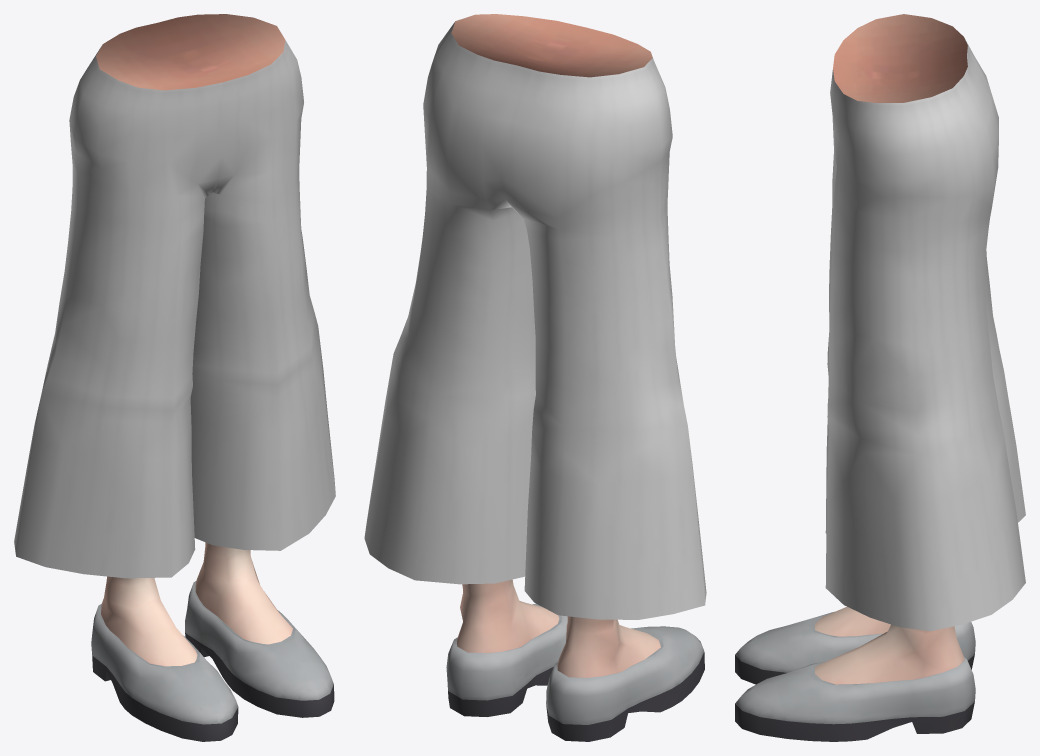
The model's file is tr0790_00_lwb00.gltf.
3 views of the same model, side by side, from view 1: azimuth 30°, elevation 25°; view 2: azimuth 150°, elevation 25°; view 3: azimuth 270°, elevation 25° (orthographic). The views are drawn at different scales.
Parts seen in each view (by area): view 1: lwb00_lowerbody_mesh_shape:lowerbody00, lwb00_shoes_mesh_shape:lowerbody00, lwb00_lowerskin_mesh_shape:lowerbody00_skin; view 2: lwb00_lowerbody_mesh_shape:lowerbody00, lwb00_shoes_mesh_shape:lowerbody00, lwb00_lowerskin_mesh_shape:lowerbody00_skin; view 3: lwb00_lowerbody_mesh_shape:lowerbody00, lwb00_shoes_mesh_shape:lowerbody00, lwb00_lowerskin_mesh_shape:lowerbody00_skin.
Boxes of the visible parts, box(x1,y1,x2,y2) form: lwb00_lowerbody_mesh_shape:lowerbody00: box(14, 14, 335, 578); lwb00_shoes_mesh_shape:lowerbody00: box(91, 581, 334, 741); lwb00_lowerskin_mesh_shape:lowerbody00_skin: box(101, 542, 292, 666); lwb00_lowerbody_mesh_shape:lowerbody00: box(364, 14, 706, 619); lwb00_shoes_mesh_shape:lowerbody00: box(446, 603, 704, 741); lwb00_lowerskin_mesh_shape:lowerbody00_skin: box(457, 579, 660, 677); lwb00_lowerbody_mesh_shape:lowerbody00: box(825, 14, 1025, 631); lwb00_shoes_mesh_shape:lowerbody00: box(735, 611, 975, 741); lwb00_lowerskin_mesh_shape:lowerbody00_skin: box(815, 606, 964, 684).
Size of what is drawn, in the model's own units: 0.5008 by 0.9368 by 0.3855.
2 materials, 2 textured.
